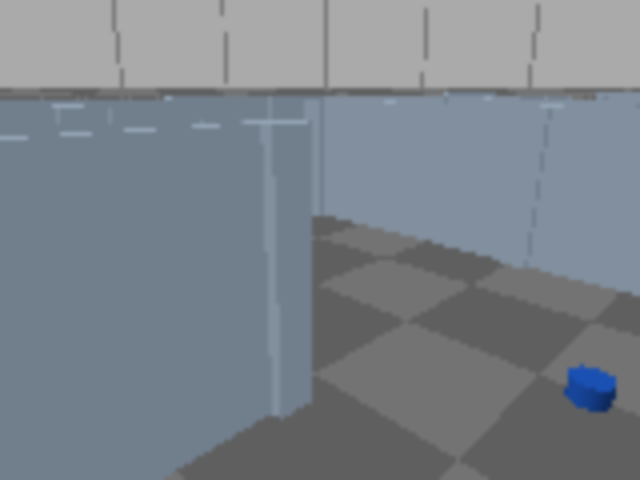puck: (566, 366, 616, 412)
